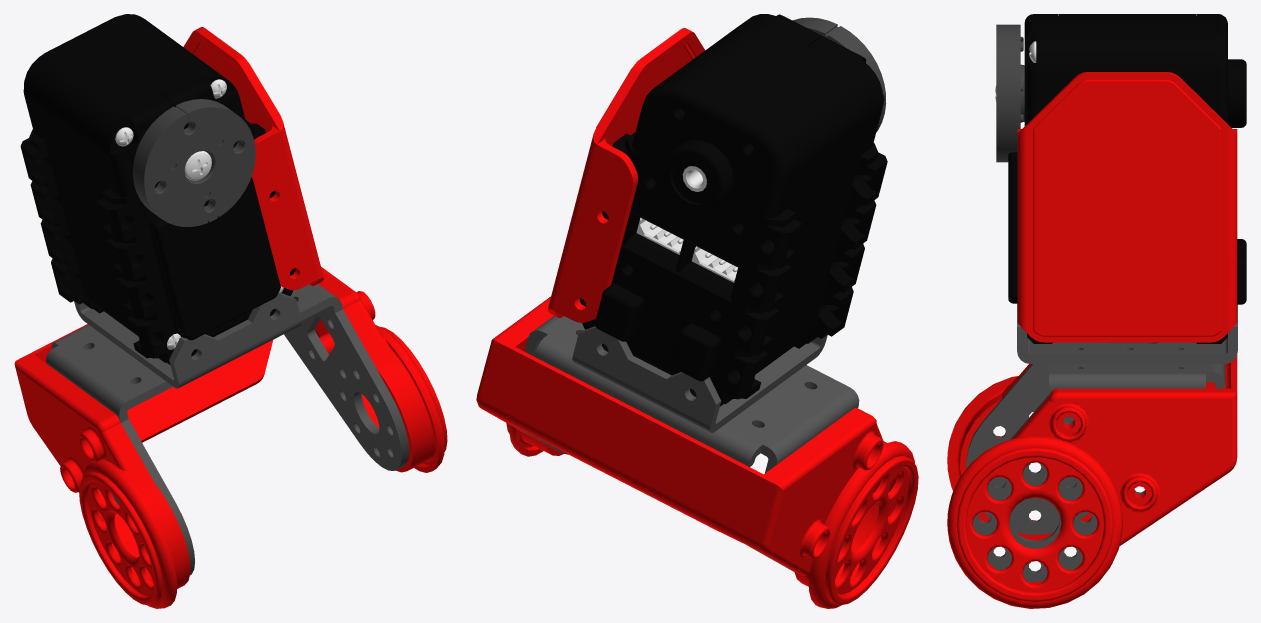
Rendered from bicep-left.obj.
The picture shows the model from 3 angles, left to right: view 1: azimuth 30°, elevation 25°; view 2: azimuth 150°, elevation 25°; view 3: azimuth 270°, elevation 25°; orthographic projection. The views are drawn at different scales.
Parts seen in each view (by area): view 1: Solid1, ASSY_DUMMY___, DC04_B01_HORN2_DUMMY, DX124_SCREW_COVER___, BHS_M2_6X8; view 2: Solid1, ASSY_DUMMY___, 099990987____, DC04_B01_HORN2_DUMMY; view 3: Solid1, ASSY_DUMMY___, DC04_B01_HORN2_DUMMY.
Part boxes in pixels (left/top/right/bottom): Solid1: left=14, top=27, right=447, bottom=608; ASSY_DUMMY___: left=20, top=14, right=295, bottom=364; DC04_B01_HORN2_DUMMY: left=133, top=99, right=255, bottom=226; DX124_SCREW_COVER___: left=115, top=79, right=283, bottom=349; BHS_M2_6X8: left=184, top=151, right=211, bottom=180; Solid1: left=476, top=28, right=918, bottom=608; ASSY_DUMMY___: left=579, top=14, right=887, bottom=406; 099990987____: left=636, top=217, right=737, bottom=282; DC04_B01_HORN2_DUMMY: left=792, top=17, right=886, bottom=131; Solid1: left=947, top=72, right=1237, bottom=608; ASSY_DUMMY___: left=1008, top=14, right=1246, bottom=343; DC04_B01_HORN2_DUMMY: left=996, top=24, right=1024, bottom=162.
Bounding box in the file's own units: 2.52 × 3.77 × 1.88.
